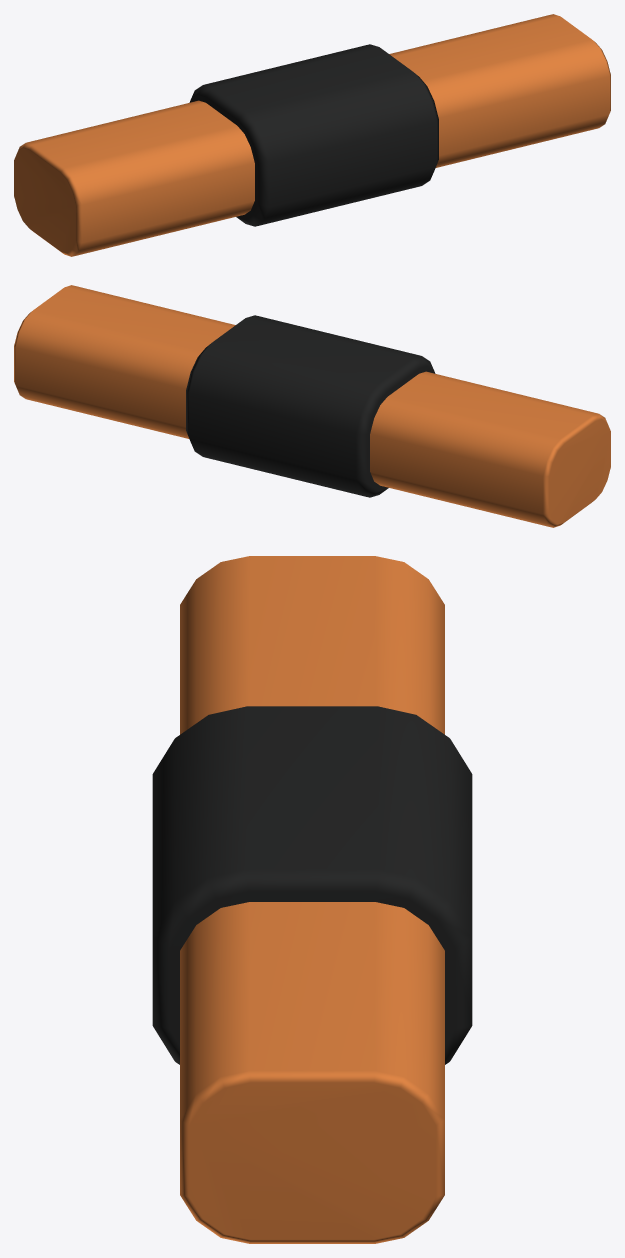
The model's file is connector_002.fbx.
The picture shows the model from 3 angles, top to bottom: view 1: azimuth 30°, elevation 25°; view 2: azimuth 150°, elevation 25°; view 3: azimuth 270°, elevation 25°; orthographic projection. The views are drawn at different scales.
Parts seen in each view (by area): view 1: connector_002; view 2: connector_002; view 3: connector_002.
Part boxes in pixels (x1,y1,x2,y2): connector_002: (14,14,610,256); connector_002: (14,285,610,527); connector_002: (152,556,472,1243).
Size of the model in its own units: 724 by 187 by 145.
